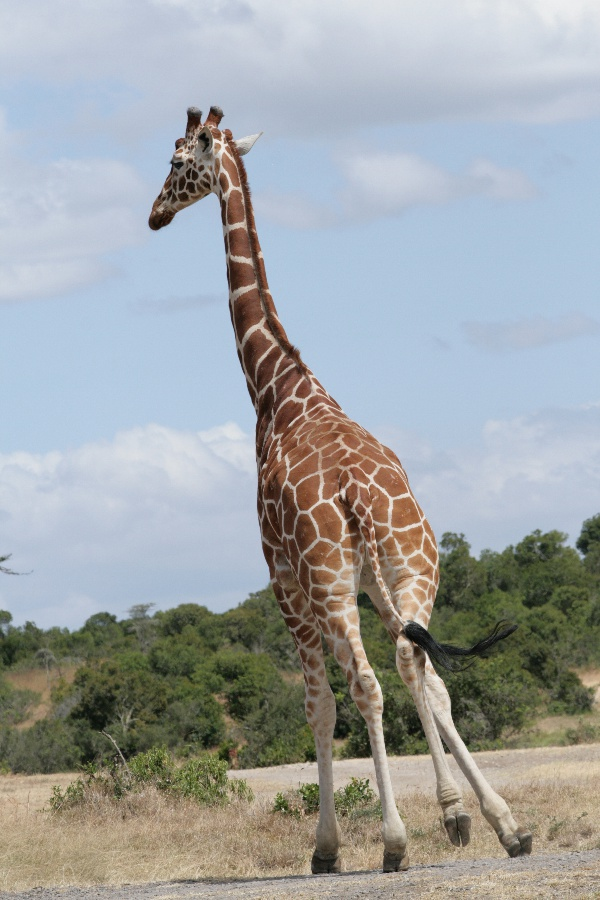giraffe: (137, 89, 543, 881)
